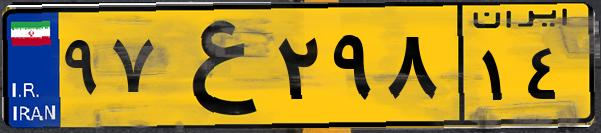1: (475, 38, 525, 113)
2: (270, 28, 330, 110)
4: (525, 38, 570, 115)
7: (110, 28, 158, 98)
8: (385, 28, 445, 110)
9: (330, 28, 385, 110), (57, 26, 110, 100)
ع: (158, 12, 270, 120)
